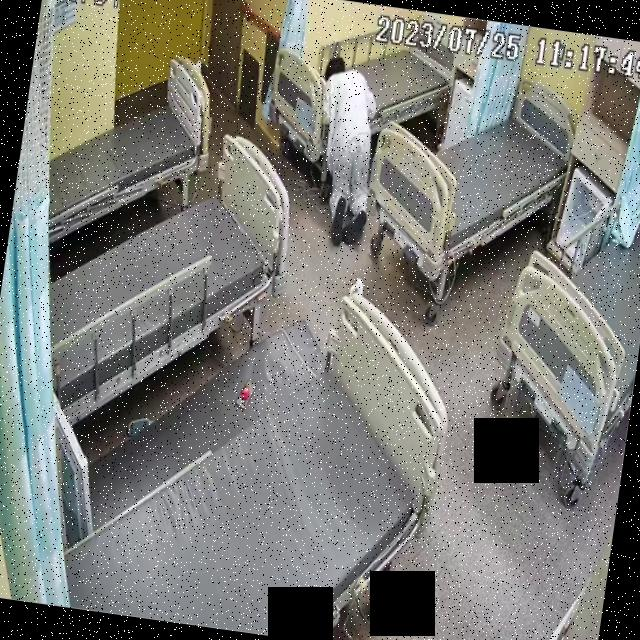bed: (55, 267, 454, 640), (27, 118, 299, 440), (486, 169, 640, 478), (359, 68, 578, 274), (38, 41, 222, 258), (267, 9, 458, 177)
fall: (296, 49, 390, 258)
patient: (297, 46, 392, 258)
